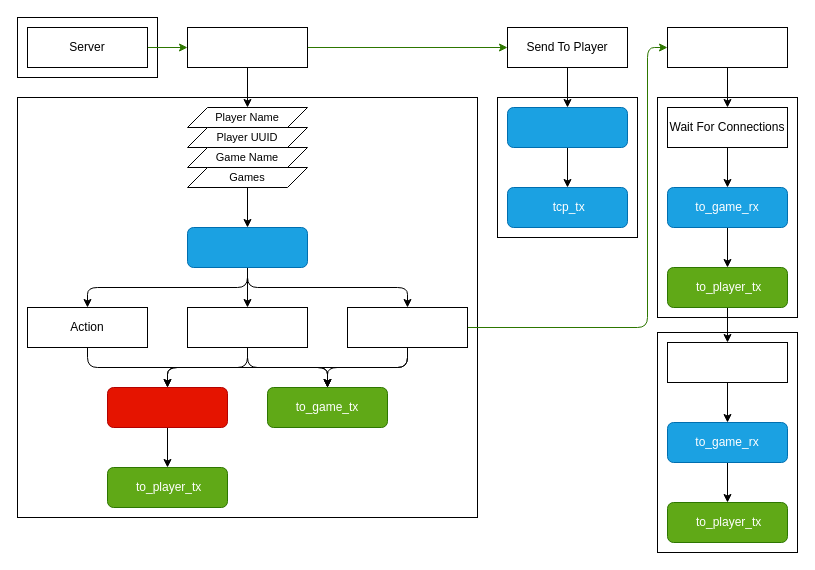
Some shapes in this 815 by 570 pixel diagram are drawn without their labels. Each missing label, with the centre of its shape:
"Error" belongs at (x=167, y=407).
"Game" belongs at (x=727, y=47).
"Game Loop" belongs at (x=727, y=362).
"Handle Connection" belongs at (x=247, y=47).
"Join Game" belongs at (x=247, y=327).
"New Game" belongs at (x=407, y=327).
"tcp_rx" belongs at (x=247, y=247).
"to_player_rx" belongs at (x=567, y=127).
